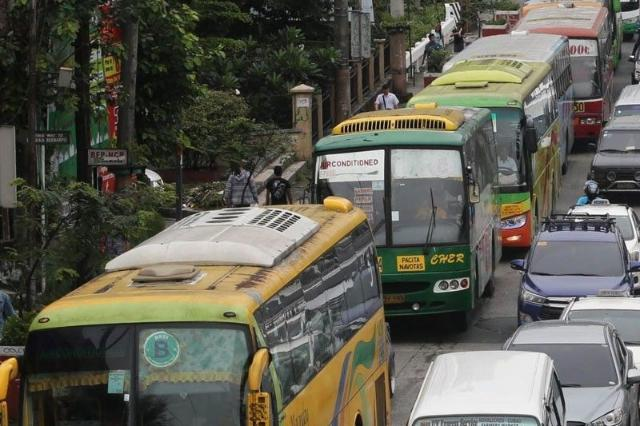bus: (3, 200, 392, 426), (314, 102, 499, 327), (411, 29, 580, 248), (514, 1, 618, 144)
car: (501, 316, 640, 424), (512, 210, 640, 323), (408, 353, 566, 426), (587, 118, 640, 192), (562, 201, 639, 238)
motorcycle: (570, 180, 613, 212)
